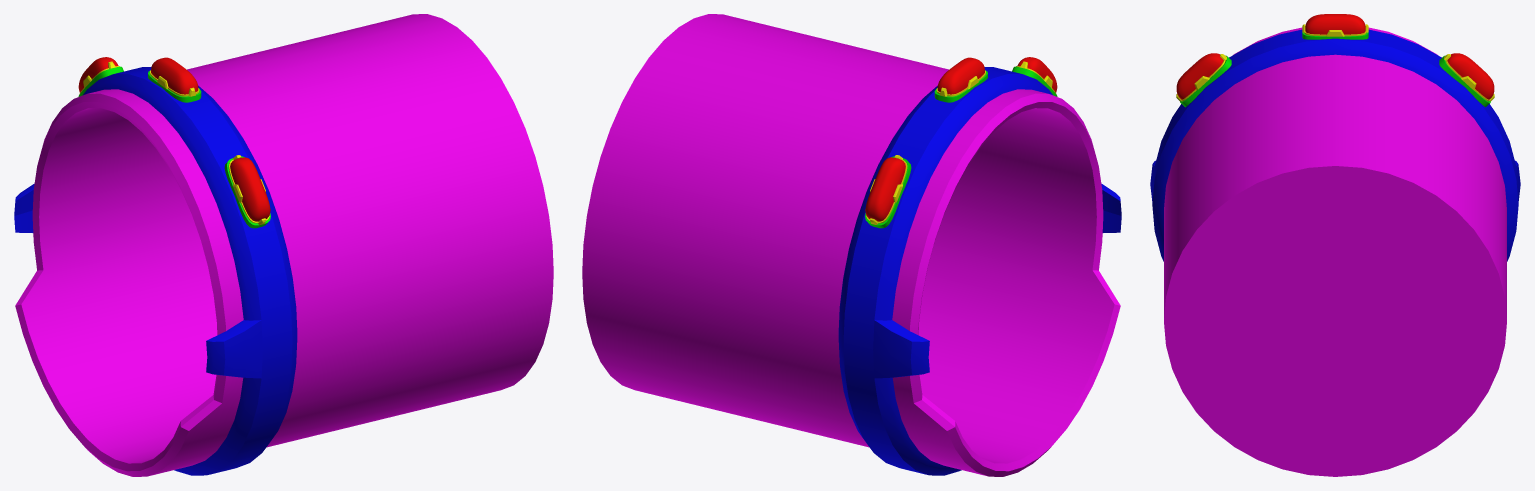
The model's file is Pipe.fbx.
The picture shows the model from 3 angles, left to right: view 1: azimuth 30°, elevation 25°; view 2: azimuth 150°, elevation 25°; view 3: azimuth 270°, elevation 25°; orthographic projection. The views are drawn at different scales.
Parts seen in each view (by area): view 1: pCube22; view 2: pCube22; view 3: pCube22.
Boxes of the visible parts, x1,y1,x2,y2 form: pCube22: (14,14,553,476); pCube22: (582,14,1121,476); pCube22: (1150,14,1520,476).
Bounding box in the file's own units: 40.75 × 42.63 × 40.94.
